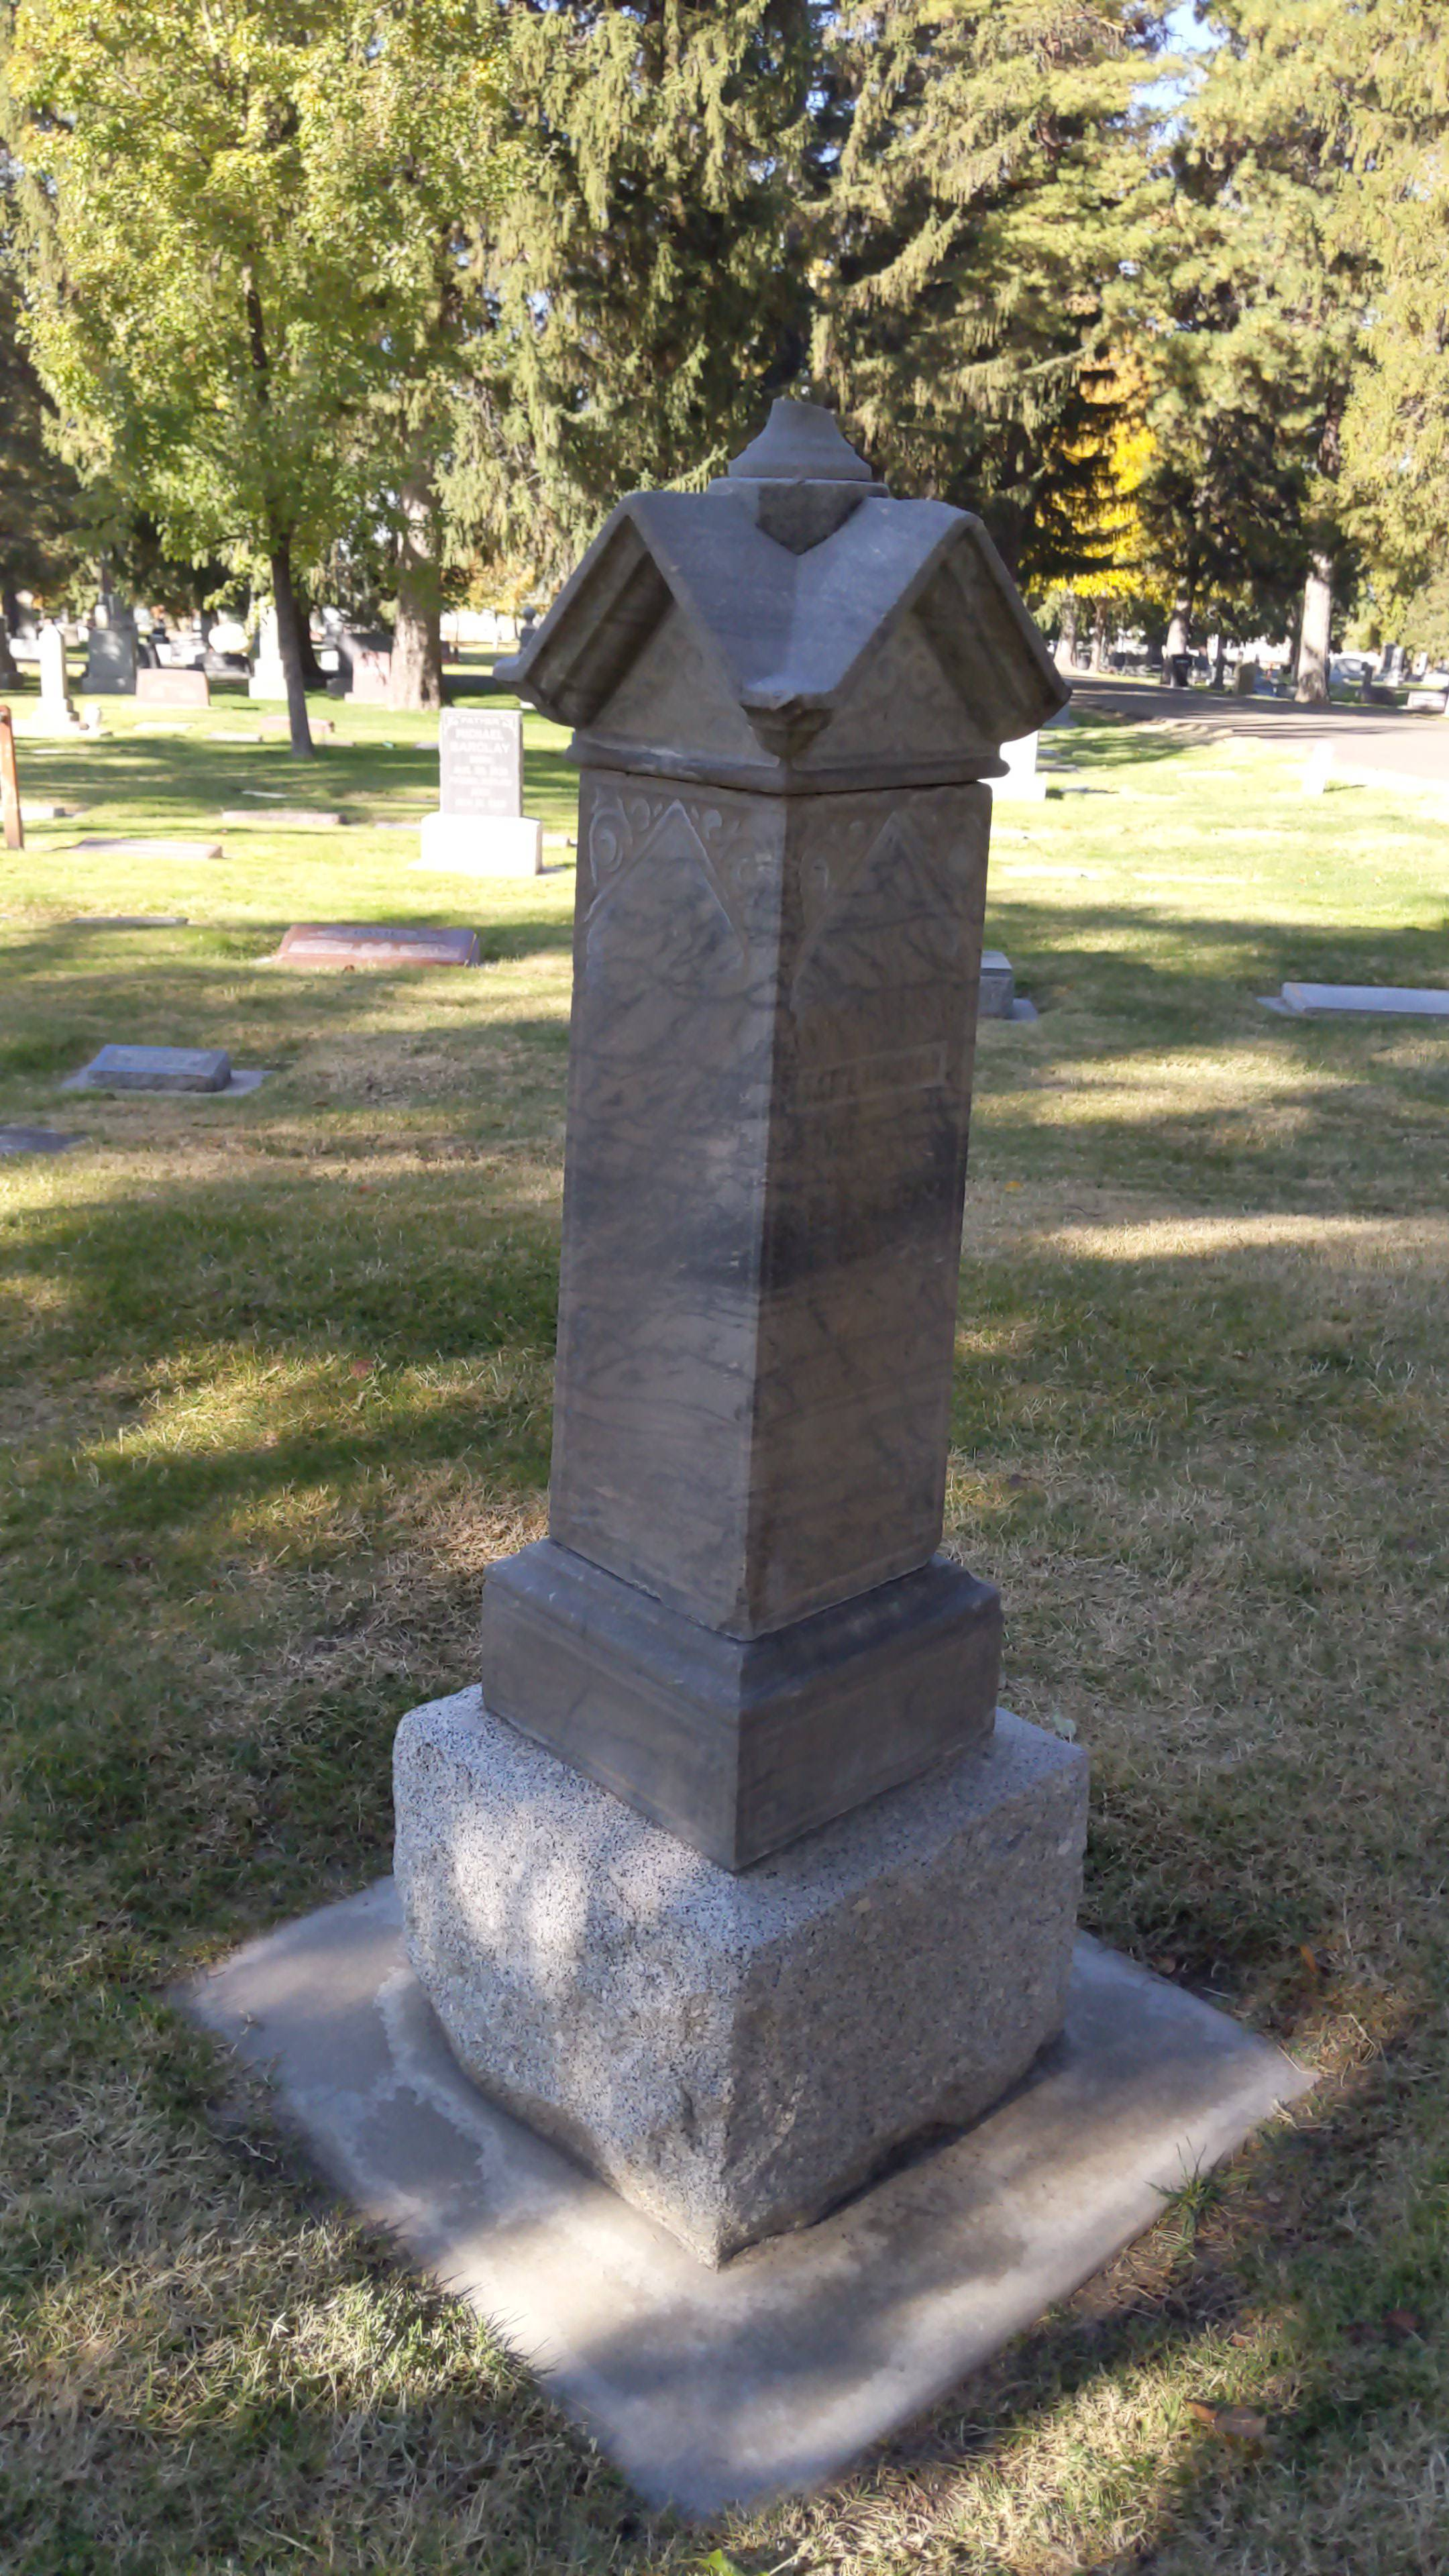obelisk: (490, 393, 1058, 1863)
